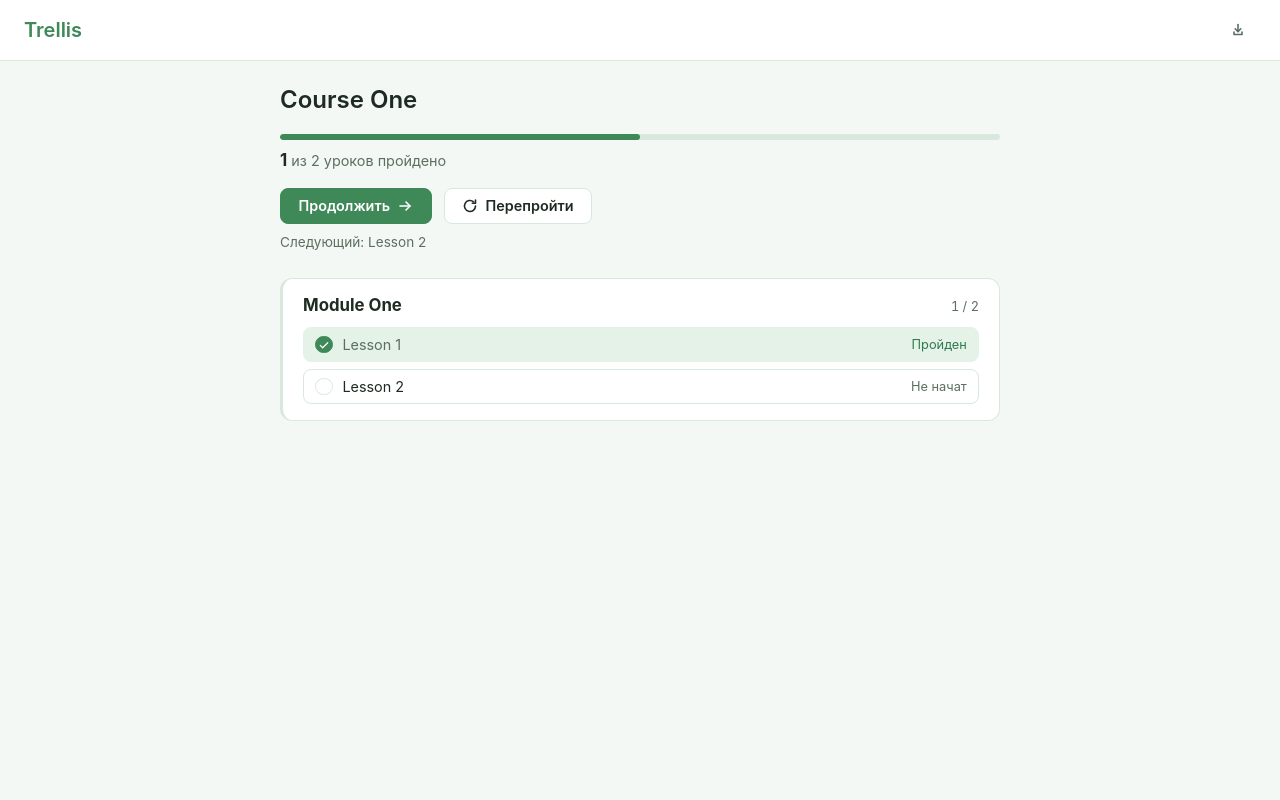
CoursePage › asks before «Перепройти» erases anything, and only deletes after the confirmation
The width and height of the screenshot is (1280, 800).
Click the button "Перепройти" at (518, 206), box x1=444 y1=188 x2=592 y2=224
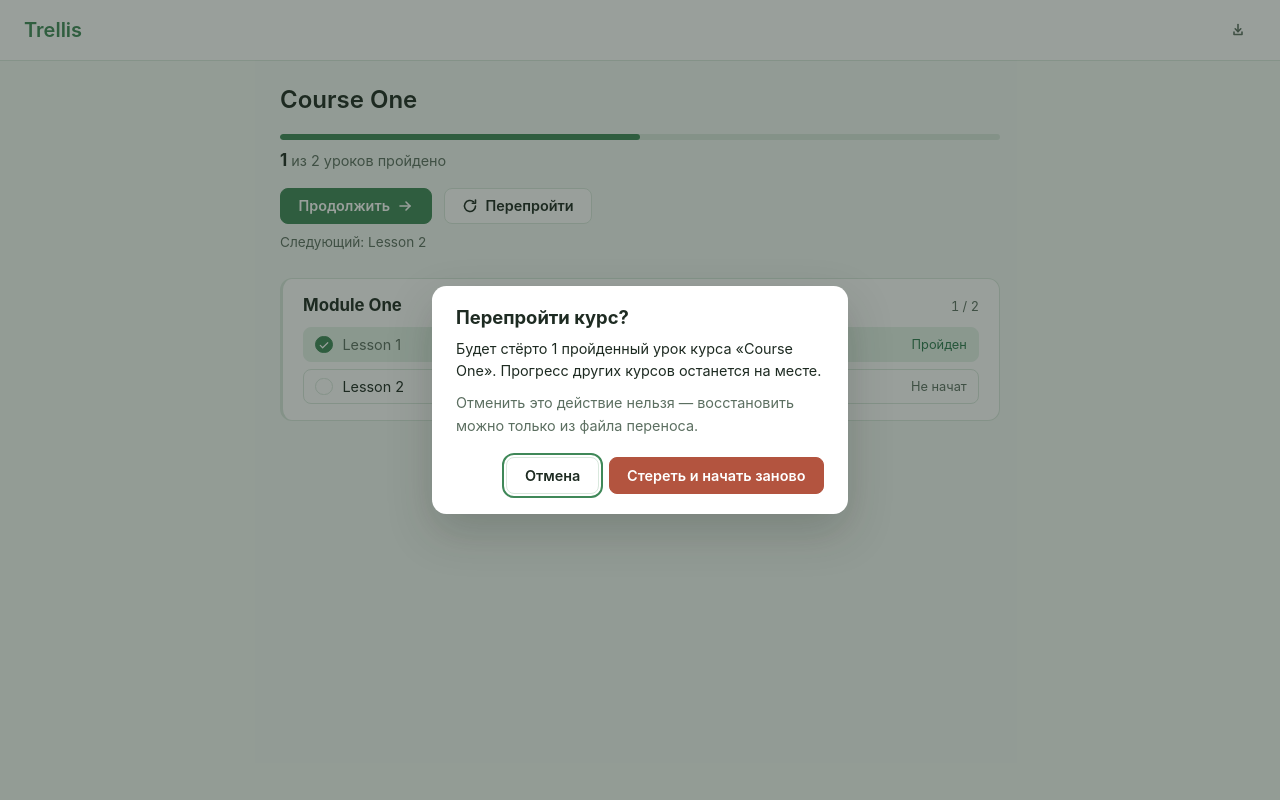
Check: the dialog "Перепройти курс?" shows "1 пройденный урок", box x1=432 y1=286 x2=848 y2=514
Click the button "Отмена" at (553, 475), box x1=506 y1=457 x2=599 y2=494
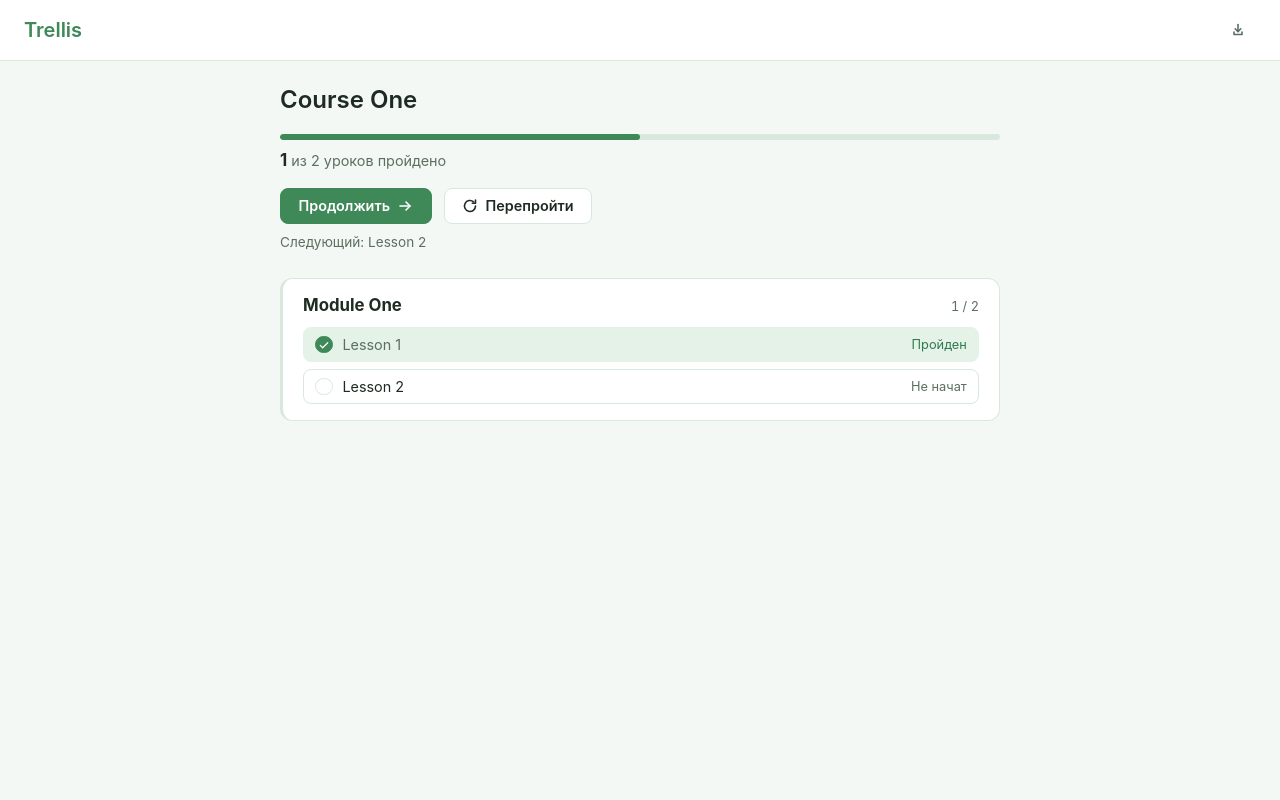
Check: the dialog is gone
Click the button "Перепройти" at (518, 206), box x1=444 y1=188 x2=592 y2=224
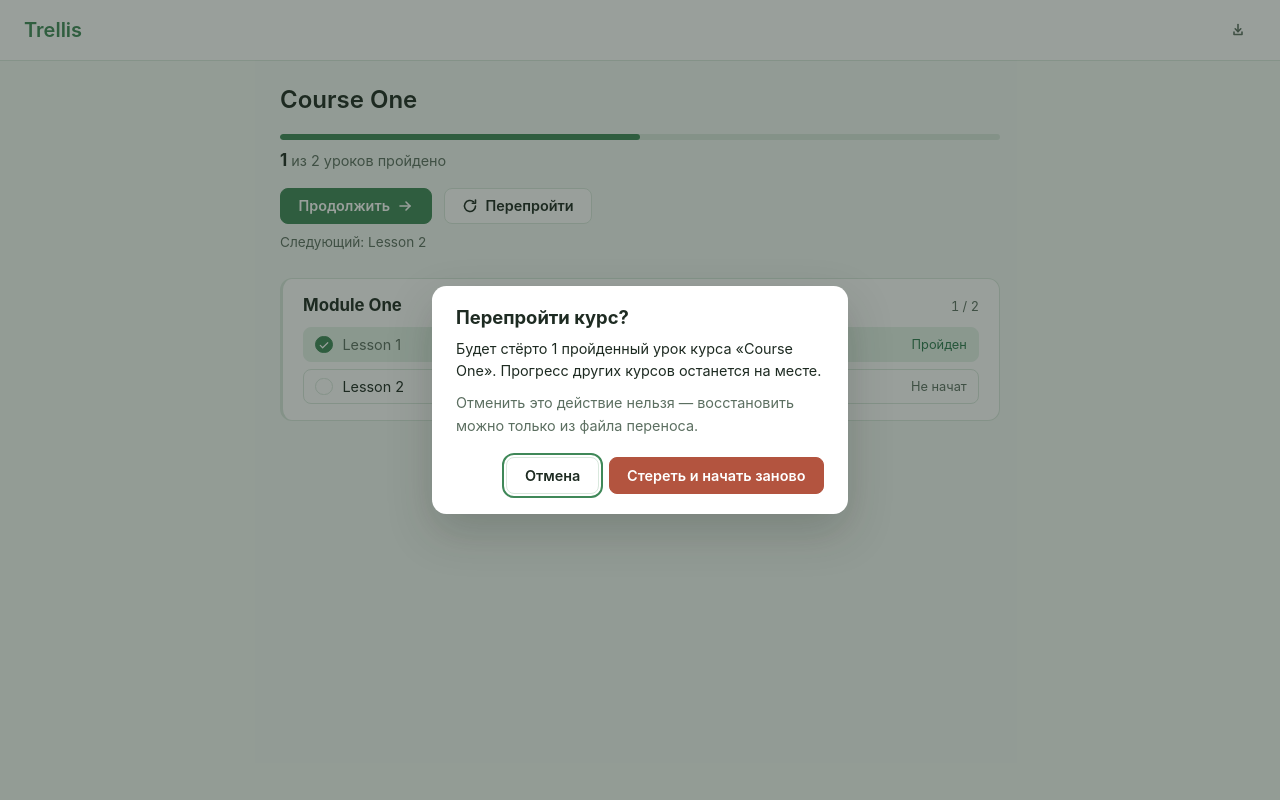
Click the button "Стереть и начать заново" at (716, 475), box x1=608 y1=457 x2=824 y2=494
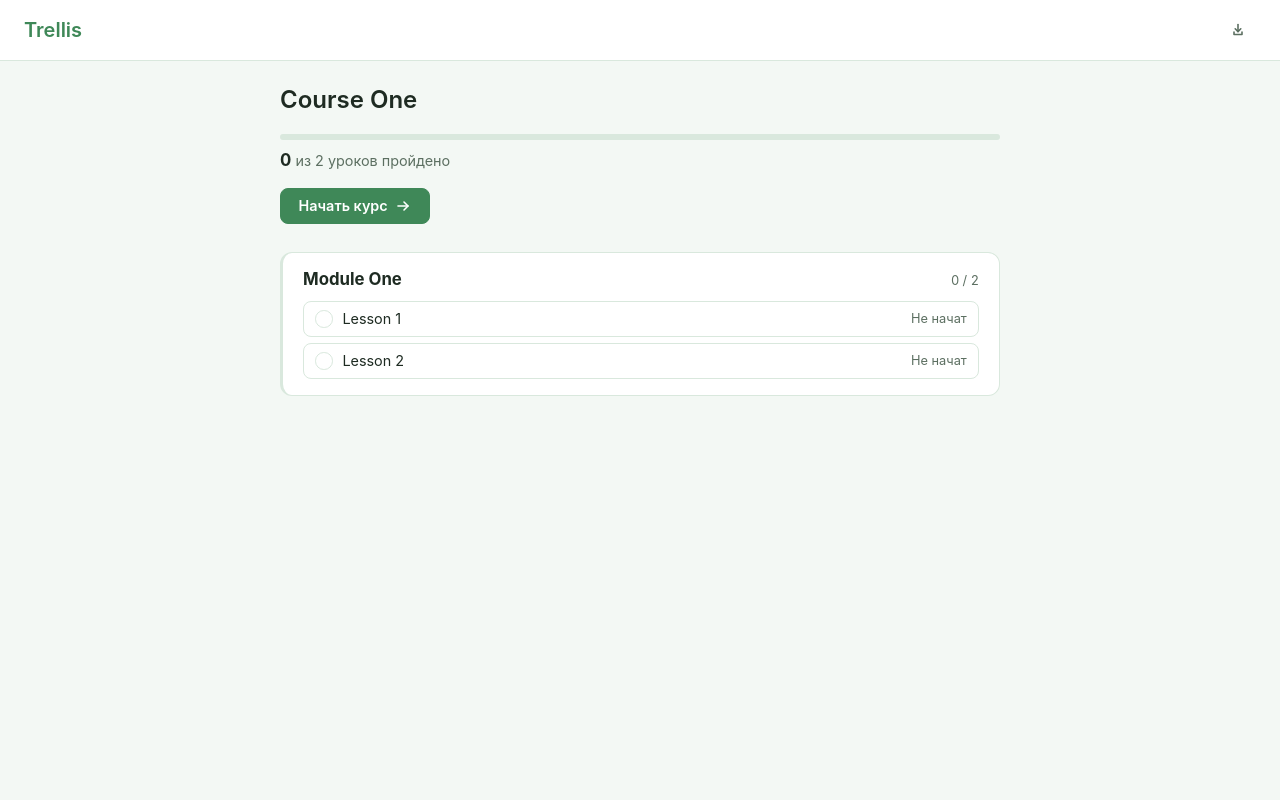
Check: the button "Перепройти" is gone
